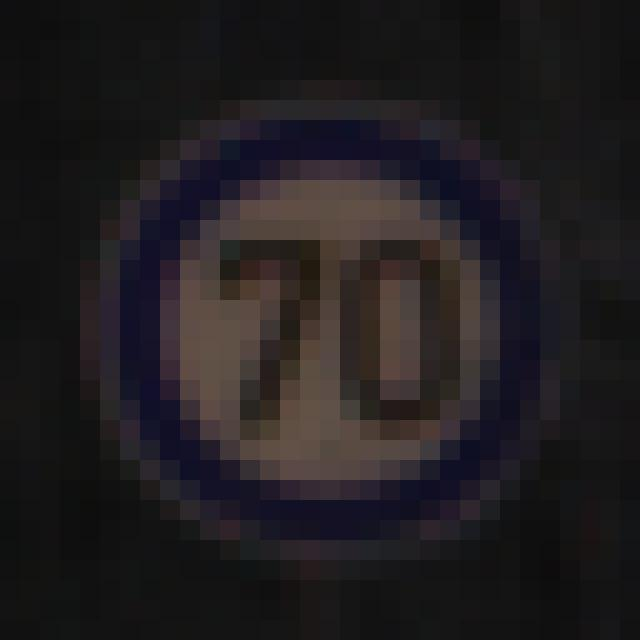SPEED LIMIT 70: (91, 121, 577, 531)
